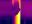Hotspot: (14, 0, 21, 23)
